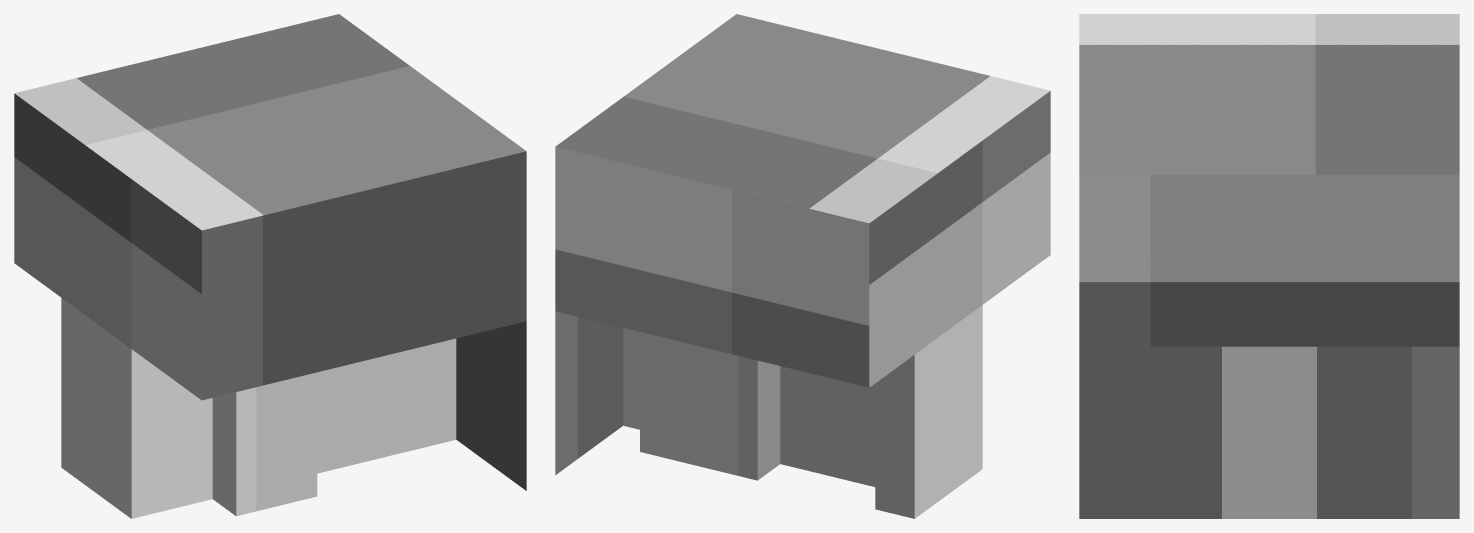
Rendered from Level 1_2 Player.fbx.
3 views of the same model, side by side, from view 1: azimuth 30°, elevation 25°; view 2: azimuth 150°, elevation 25°; view 3: azimuth 270°, elevation 25° (orthographic). The views are drawn at different scales.
Parts seen in each view (by area): view 1: Level_1_2_Player; view 2: Level_1_2_Player; view 3: Level_1_2_Player.
Part boxes in pixels (<box>): Level_1_2_Player: <box>14,14,526,518</box>; Level_1_2_Player: <box>555,14,1050,518</box>; Level_1_2_Player: <box>1079,14,1459,518</box>.
Bounding box in the file's own units: 20 × 20 × 20.
